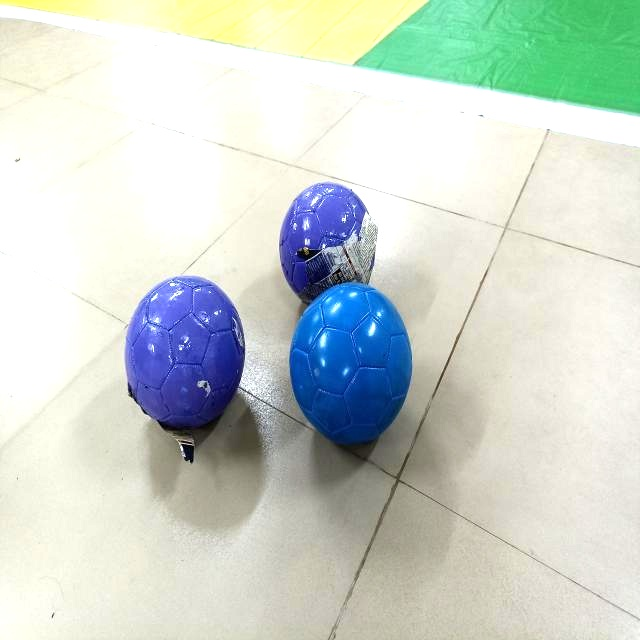blue_ball: (296, 295, 411, 442)
purple_ball: (126, 278, 232, 426), (286, 186, 377, 284)
